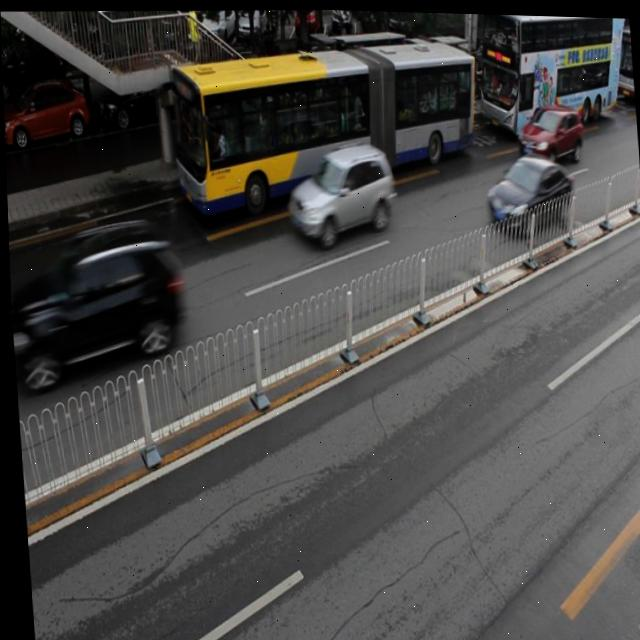car: (6, 218, 178, 386), (283, 138, 396, 247), (481, 147, 572, 231), (2, 74, 91, 149), (95, 65, 186, 134), (196, 42, 270, 114), (513, 97, 582, 162), (290, 44, 357, 104)
van: (168, 34, 483, 218), (478, 11, 629, 135)
